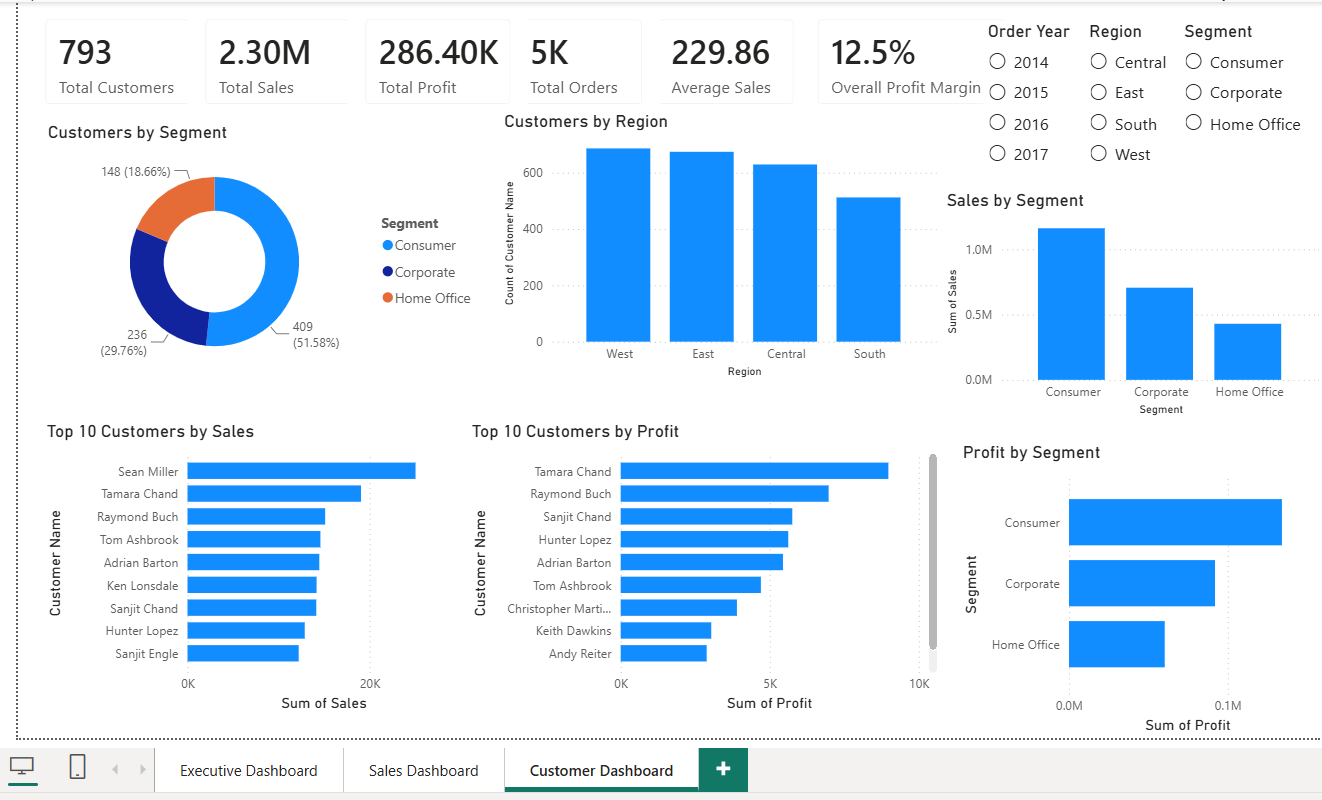

What the dashboard file says about the page in this screenshot:
{"tool":"powerbi","page":{"name":"Customer Dashboard","canvas":[1280,720],"ordinal":2},"visuals":[{"type":"cardVisual","fields":{"Data":["feature_engineered_superstore.Total Customers"]},"box":[9.8,0,183.4,117.4],"z":0},{"type":"cardVisual","fields":{"Data":["feature_engineered_superstore.Average Sales"]},"box":[609,0,167.5,117.4],"z":1},{"type":"cardVisual","fields":{"Data":["feature_engineered_superstore.Total Orders"]},"box":[470.8,0,157.7,117.4],"z":2},{"type":"cardVisual","fields":{"Data":["feature_engineered_superstore.Total Sales"]},"box":[166.3,0,176.1,117.4],"z":3},{"type":"cardVisual","fields":{"Data":["feature_engineered_superstore.Overall Profit Margin"]},"box":[765.5,0,217.7,117.4],"z":4},{"type":"cardVisual","fields":{"Data":["feature_engineered_superstore.Total Profit"]},"box":[322.8,0,176.1,117.4],"z":5},{"type":"donutChart","title":"Customers by Segment","fields":{"Category":["feature_engineered_superstore.Segment"],"Y":["Count(feature_engineered_superstore.Customer Name)"]},"box":[24.5,117.4,432.9,254.3],"z":6},{"type":"clusteredBarChart","title":"Top 10 Customers by Sales","fields":{"Category":["feature_engineered_superstore.Customer Name"],"Y":["Sum(feature_engineered_superstore.Sales)"]},"box":[23.4,409.7,433,289.3],"z":7},{"type":"clusteredBarChart","title":"Top 10 Customers by Profit","fields":{"Category":["feature_engineered_superstore.Customer Name"],"Y":["Sum(feature_engineered_superstore.Profit)"]},"box":[438.4,409.7,465.4,289.3],"z":8},{"type":"clusteredColumnChart","title":"Customers by Region","fields":{"Category":["feature_engineered_superstore.Region"],"Y":["Count(feature_engineered_superstore.Customer Name)"]},"box":[470.8,106,433,265.9],"z":9},{"type":"clusteredColumnChart","title":"Sales by Segment","fields":{"Category":["feature_engineered_superstore.Segment"],"Y":["Sum(feature_engineered_superstore.Sales)"]},"box":[903.7,183.4,375.4,226.2],"z":10},{"type":"clusteredBarChart","title":"Profit by Segment","fields":{"Category":["feature_engineered_superstore.Segment"],"Y":["Sum(feature_engineered_superstore.Profit)"]},"box":[919.6,430.4,360.7,289.8],"z":11},{"type":"listSlicer","fields":{"Values":["feature_engineered_superstore.Order Year"]},"box":[944,18.3,133.3,165.1],"z":12},{"type":"listSlicer","fields":{"Values":["feature_engineered_superstore.Region"]},"box":[1043.1,18.3,130.8,165.1],"z":13},{"type":"listSlicer","fields":{"Values":["feature_engineered_superstore.Segment"]},"box":[1136,18.3,143.1,165.1],"z":14}]}

Visuals, with their boxes on the page's 1280x720 design canvas (x1, y1, x2, y2). These are canvas units, not pixel positions in the 1322x800 screenshot, which may show the page scaled, cropped or inside an application window:
cardVisual - feature_engineered_superstore.Total Customers: pyautogui.locateOnScreen(10, 0, 193, 117)
cardVisual - feature_engineered_superstore.Average Sales: pyautogui.locateOnScreen(609, 0, 776, 117)
cardVisual - feature_engineered_superstore.Total Orders: pyautogui.locateOnScreen(471, 0, 628, 117)
cardVisual - feature_engineered_superstore.Total Sales: pyautogui.locateOnScreen(166, 0, 342, 117)
cardVisual - feature_engineered_superstore.Overall Profit Margin: pyautogui.locateOnScreen(766, 0, 983, 117)
cardVisual - feature_engineered_superstore.Total Profit: pyautogui.locateOnScreen(323, 0, 499, 117)
"Customers by Segment" donutChart: pyautogui.locateOnScreen(24, 117, 457, 372)
"Top 10 Customers by Sales" clusteredBarChart: pyautogui.locateOnScreen(23, 410, 456, 699)
"Top 10 Customers by Profit" clusteredBarChart: pyautogui.locateOnScreen(438, 410, 904, 699)
"Customers by Region" clusteredColumnChart: pyautogui.locateOnScreen(471, 106, 904, 372)
"Sales by Segment" clusteredColumnChart: pyautogui.locateOnScreen(904, 183, 1279, 410)
"Profit by Segment" clusteredBarChart: pyautogui.locateOnScreen(920, 430, 1280, 720)
listSlicer - feature_engineered_superstore.Order Year: pyautogui.locateOnScreen(944, 18, 1077, 183)
listSlicer - feature_engineered_superstore.Region: pyautogui.locateOnScreen(1043, 18, 1174, 183)
listSlicer - feature_engineered_superstore.Segment: pyautogui.locateOnScreen(1136, 18, 1279, 183)
